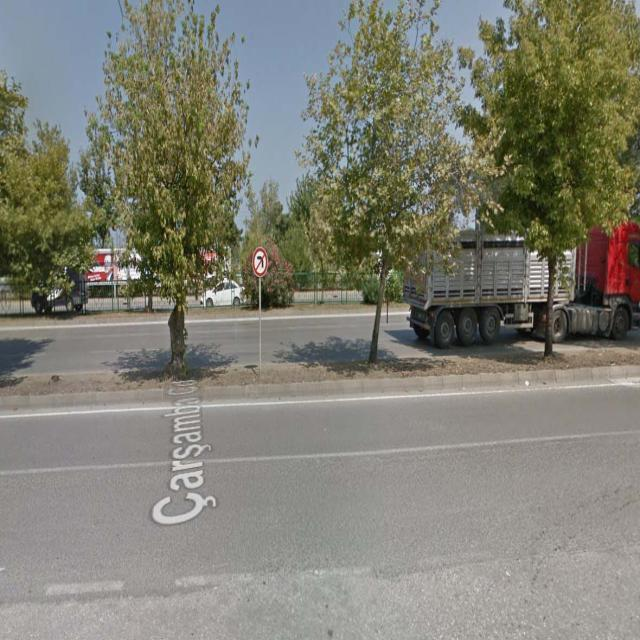soladonulmez: (252, 247, 269, 278)
